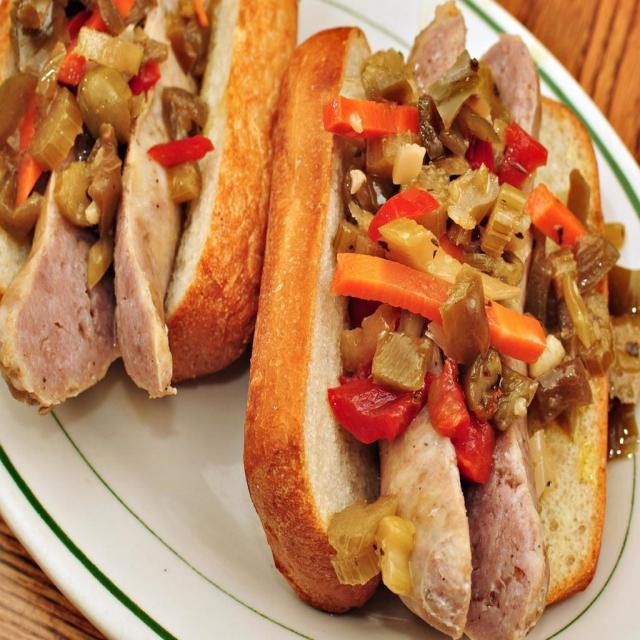Hot dog: (154, 0, 640, 640), (0, 0, 295, 412)
